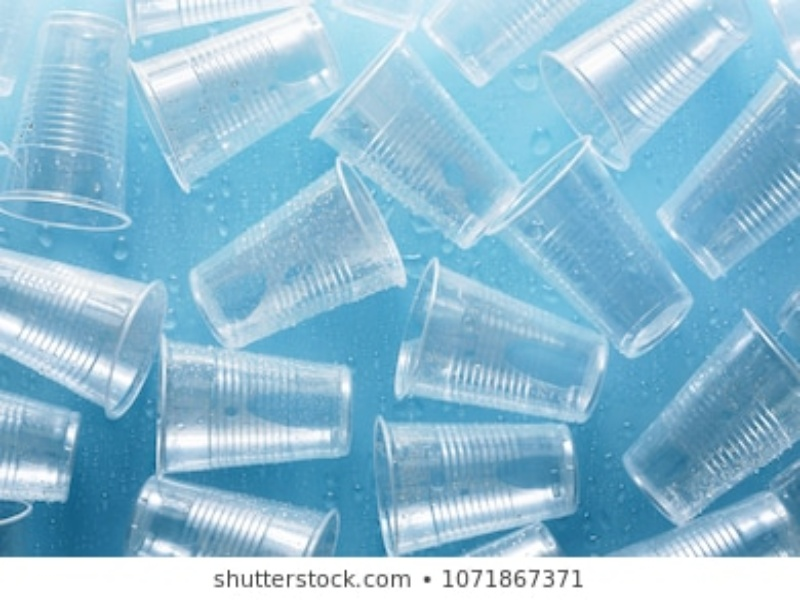plastic-cup: (307, 24, 527, 260), (484, 128, 699, 367), (180, 154, 414, 353), (391, 245, 620, 429), (129, 1, 339, 190), (620, 301, 796, 521), (535, 3, 753, 177), (362, 401, 589, 547), (144, 333, 365, 481), (2, 6, 141, 238), (658, 55, 798, 284), (1, 247, 168, 418), (115, 480, 341, 557), (1, 394, 84, 513)
